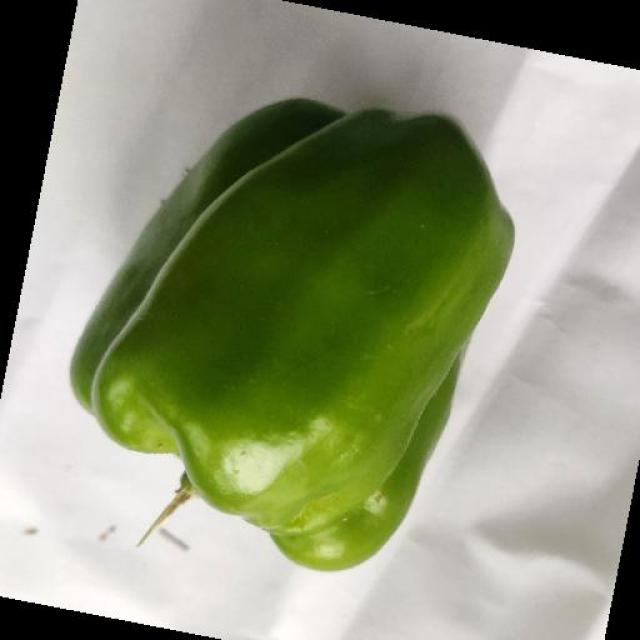Fresh_Capsicum: (149, 99, 496, 553)
